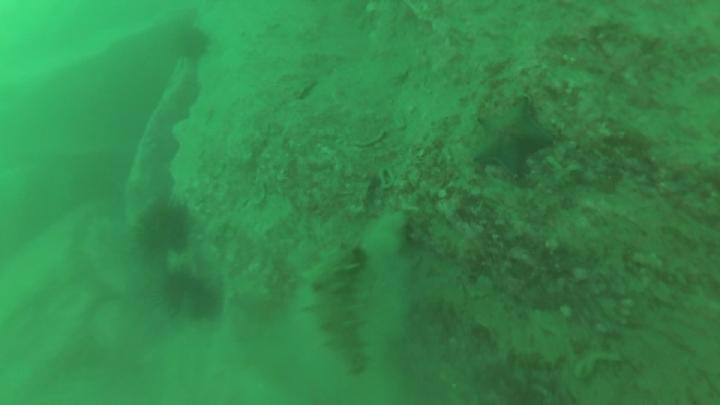echinus: (138, 201, 191, 249), (158, 272, 193, 314), (177, 28, 209, 59)
scallop: (311, 246, 372, 379)
starfish: (474, 103, 554, 181)
